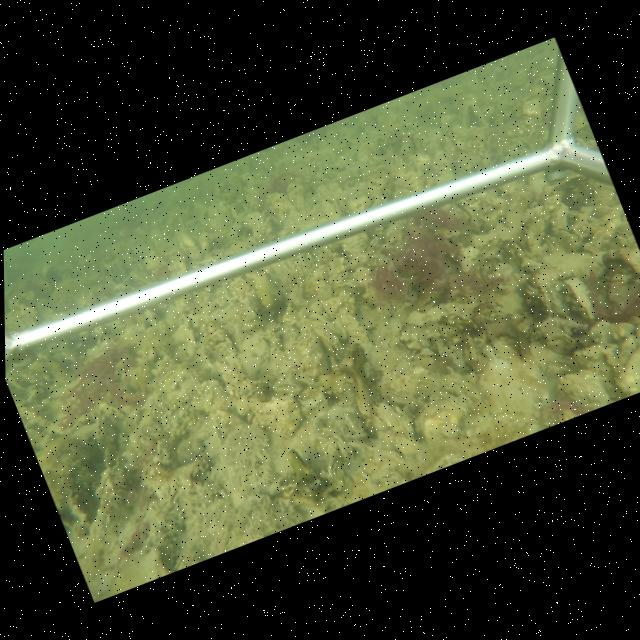Oyster-Closed: (411, 391, 476, 439), (250, 393, 306, 440), (553, 369, 613, 407), (560, 277, 596, 324), (341, 313, 379, 346), (311, 325, 345, 361), (94, 408, 118, 448), (182, 312, 200, 357), (341, 410, 364, 439), (335, 434, 355, 465), (327, 458, 348, 483), (175, 228, 199, 249), (100, 442, 115, 468), (198, 231, 211, 251)
Oyster-Indeterminate: (610, 344, 640, 395), (265, 191, 300, 224), (164, 245, 190, 277), (242, 212, 275, 236), (286, 181, 307, 211)
Oyster-Open: (550, 225, 585, 253)
